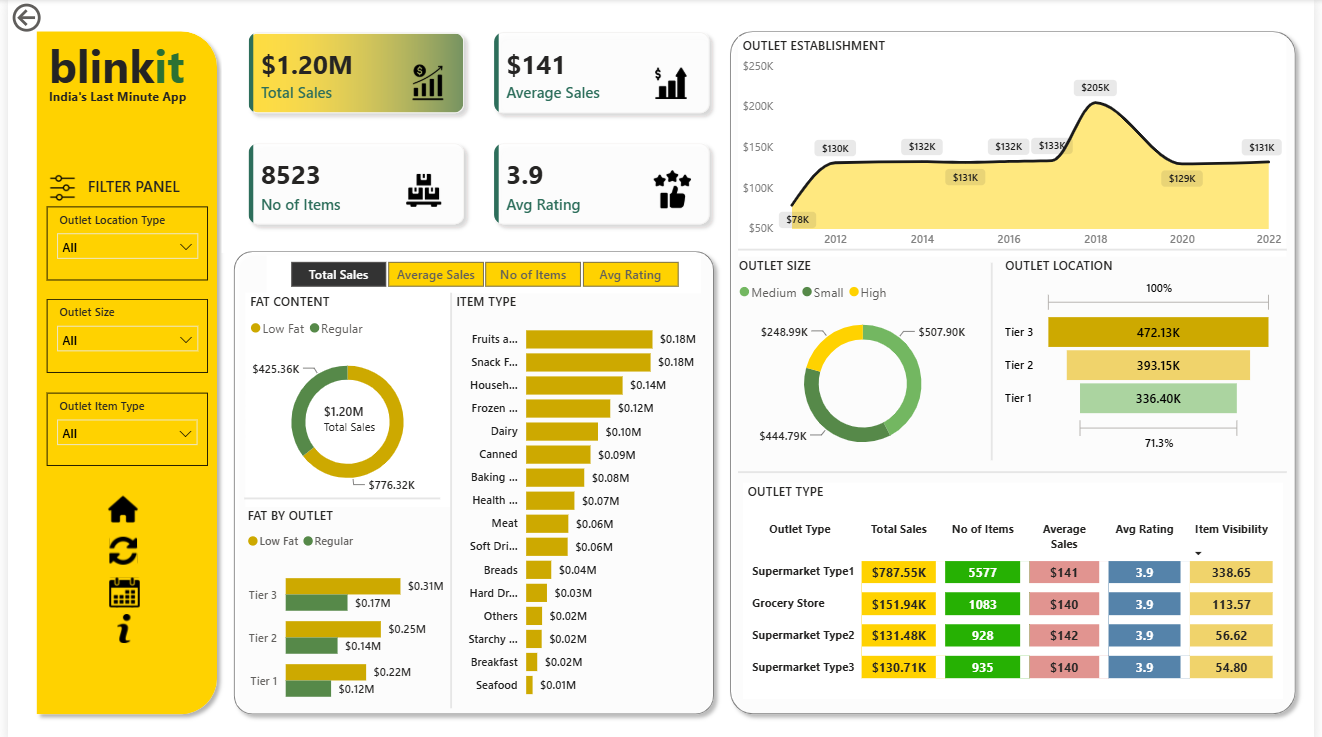

The page's visual inventory and layout, read from the dashboard file:
{"tool":"powerbi","page":{"name":"Page 1","canvas":[1400,800],"ordinal":0},"visuals":[{"type":"shape","box":[21.4,25.5,211.8,750.7],"z":0},{"type":"textbox","box":[39,33,175.6,78],"z":1000},{"type":"textbox","box":[39,90.1,165.1,34.5],"z":2000},{"type":"cardVisual","fields":{"Data":["BlinkIT Grocery Data.Total Sales","BlinkIT Grocery Data.Average Sales","BlinkIT Grocery Data.No of Items","BlinkIT Grocery Data.Avg Rating"]},"box":[229.2,6.7,553.6,265.4],"z":3000},{"type":"image","box":[426.2,69,48,39],"z":4000},{"type":"image","box":[684.4,72,52.5,36],"z":5000},{"type":"image","box":[418.7,186.1,55.5,37.5],"z":6000},{"type":"image","box":[687.4,183.1,49.5,40.5],"z":7000},{"type":"shape","box":[232.6,261.2,532.8,514.8],"z":8000},{"type":"donutChart","title":"FAT CONTENT","fields":{"Y":["BlinkIT Grocery Data.Total Sales"],"Category":["BlinkIT Grocery Data.Item Fat Content"]},"box":[255.1,315.2,219.1,229.6],"z":9000},{"type":"slicer","fields":{"Values":["Metrics.Metrics"]},"box":[277.7,274.7,465.3,40.5],"z":10000},{"type":"cardVisual","fields":{"Data":["BlinkIT Grocery Data.Total Sales"]},"box":[309.2,411.2,129.1,76.5],"z":11000},{"type":"clusteredBarChart","title":"FAT BY OUTLET","fields":{"Y":["BlinkIT Grocery Data.Total Sales"],"Category":["BlinkIT Grocery Data.Outlet Location Type"],"Series":["BlinkIT Grocery Data.Item Fat Content"]},"box":[252.1,544.8,220.6,229.6],"z":12000},{"type":"shape","box":[253.6,522.3,210.1,25.5],"z":13000},{"type":"shape","box":[469.8,315.2,12,445.8],"z":14000},{"type":"barChart","title":"ITEM TYPE","fields":{"Y":["BlinkIT Grocery Data.Total Sales"],"Category":["BlinkIT Grocery Data.Item Type"]},"box":[475.8,315.2,267.2,445.8],"z":15000},{"type":"shape","box":[765.4,25.5,624.4,750.4],"z":16000},{"type":"lineChart","title":"OUTLET ESTABLISHMENT","fields":{"Y":["BlinkIT Grocery Data.Total Sales"],"Category":["BlinkIT Grocery Data.Outlet Establishment Year"]},"box":[783.5,40.5,588.3,235.6],"z":17000},{"type":"donutChart","title":"OUTLET SIZE","fields":{"Y":["BlinkIT Grocery Data.Total Sales"],"Category":["BlinkIT Grocery Data.Outlet Size"]},"box":[778.8,276.1,276.1,225.2],"z":18000},{"type":"shape","box":[1045.6,282.8,18.8,211.8],"z":19000},{"type":"shape","box":[782.8,262.7,588.5,12.1],"z":20000},{"type":"shape","box":[782.8,501.3,588.5,12.1],"z":21000},{"type":"funnel","title":"OUTLET LOCATION","fields":{"Category":["BlinkIT Grocery Data.Outlet Location Type"],"Y":["Sum(BlinkIT Grocery Data.Sales)"]},"box":[1064.3,276.1,297.6,215.8],"z":22000},{"type":"pivotTable","title":"OUTLET TYPE","fields":{"Rows":["BlinkIT Grocery Data.Outlet Type"],"Values":["BlinkIT Grocery Data.Total Sales","BlinkIT Grocery Data.No of Items","BlinkIT Grocery Data.Average Sales","BlinkIT Grocery Data.Avg Rating","Sum(BlinkIT Grocery Data.Item Visibility)"]},"box":[788.2,518.8,579.1,231.9],"z":23000},{"type":"actionButton","box":[0,0,100,40],"z":24000},{"type":"slicer","fields":{"Values":["BlinkIT Grocery Data.Outlet Location Type"]},"box":[41.6,222.5,172.9,79.1],"z":25000},{"type":"slicer","fields":{"Values":["BlinkIT Grocery Data.Outlet Size"]},"box":[41.6,321.7,172.9,79.1],"z":26000},{"type":"slicer","fields":{"Values":["BlinkIT Grocery Data.Item Type"]},"box":[42.1,422.2,172.4,78.7],"z":27000},{"type":"textbox","box":[80.4,185,113.9,36.2],"z":28000},{"type":"actionButton","box":[104.6,571,37.5,41.6],"z":29000},{"type":"actionButton","box":[100.5,522.8,45.6,48.3],"z":30000},{"type":"actionButton","box":[104.5,615,40.7,42.1],"z":31000},{"type":"actionButton","box":[104.5,655.7,44.8,39.4],"z":33000},{"type":"image","box":[30.8,187.7,55,29.5],"z":35000}]}

Visuals, with their boxes on the page's 1400x800 design canvas (x1, y1, x2, y2). These are canvas units, not pixel positions in the 1322x737 screenshot, which may show the page scaled, cropped or inside an application window:
shape: [left=21, top=26, right=233, bottom=776]
textbox: [left=39, top=33, right=215, bottom=111]
textbox: [left=39, top=90, right=204, bottom=125]
cardVisual - BlinkIT Grocery Data.Total Sales x BlinkIT Grocery Data.Average Sales: [left=229, top=7, right=783, bottom=272]
image: [left=426, top=69, right=474, bottom=108]
image: [left=684, top=72, right=737, bottom=108]
image: [left=419, top=186, right=474, bottom=224]
image: [left=687, top=183, right=737, bottom=224]
shape: [left=233, top=261, right=765, bottom=776]
"FAT CONTENT" donutChart: [left=255, top=315, right=474, bottom=545]
slicer - Metrics.Metrics: [left=278, top=275, right=743, bottom=315]
cardVisual - BlinkIT Grocery Data.Total Sales: [left=309, top=411, right=438, bottom=488]
"FAT BY OUTLET" clusteredBarChart: [left=252, top=545, right=473, bottom=774]
shape: [left=254, top=522, right=464, bottom=548]
shape: [left=470, top=315, right=482, bottom=761]
"ITEM TYPE" barChart: [left=476, top=315, right=743, bottom=761]
shape: [left=765, top=26, right=1390, bottom=776]
"OUTLET ESTABLISHMENT" lineChart: [left=784, top=40, right=1372, bottom=276]
"OUTLET SIZE" donutChart: [left=779, top=276, right=1055, bottom=501]
shape: [left=1046, top=283, right=1064, bottom=495]
shape: [left=783, top=263, right=1371, bottom=275]
shape: [left=783, top=501, right=1371, bottom=513]
"OUTLET LOCATION" funnel: [left=1064, top=276, right=1362, bottom=492]
"OUTLET TYPE" pivotTable: [left=788, top=519, right=1367, bottom=751]
actionButton: [left=0, top=0, right=100, bottom=40]
slicer - BlinkIT Grocery Data.Outlet Location Type: [left=42, top=222, right=214, bottom=302]
slicer - BlinkIT Grocery Data.Outlet Size: [left=42, top=322, right=214, bottom=401]
slicer - BlinkIT Grocery Data.Item Type: [left=42, top=422, right=214, bottom=501]
textbox: [left=80, top=185, right=194, bottom=221]
actionButton: [left=105, top=571, right=142, bottom=613]
actionButton: [left=100, top=523, right=146, bottom=571]
actionButton: [left=104, top=615, right=145, bottom=657]
actionButton: [left=104, top=656, right=149, bottom=695]
image: [left=31, top=188, right=86, bottom=217]
